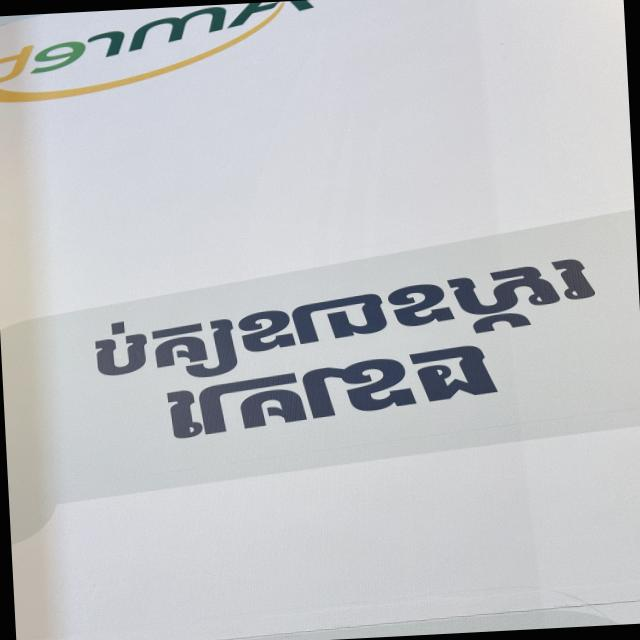Yolov11_80vkh: (80, 247, 620, 393), (145, 336, 524, 468)
